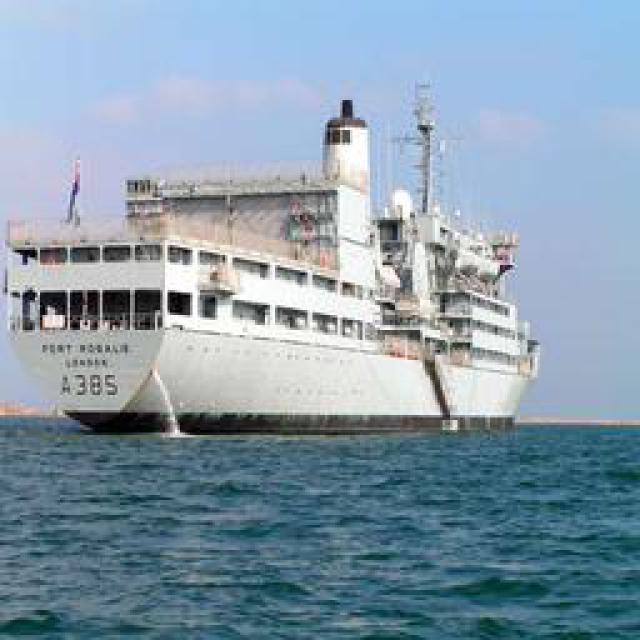Ship: (9, 108, 549, 433)
